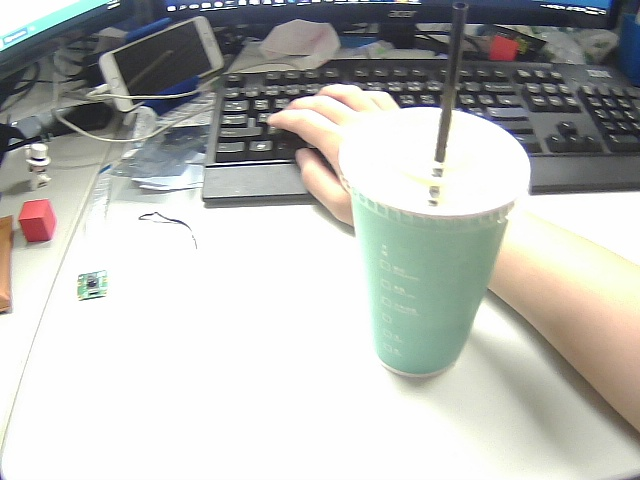beverage: (329, 1, 539, 394)
